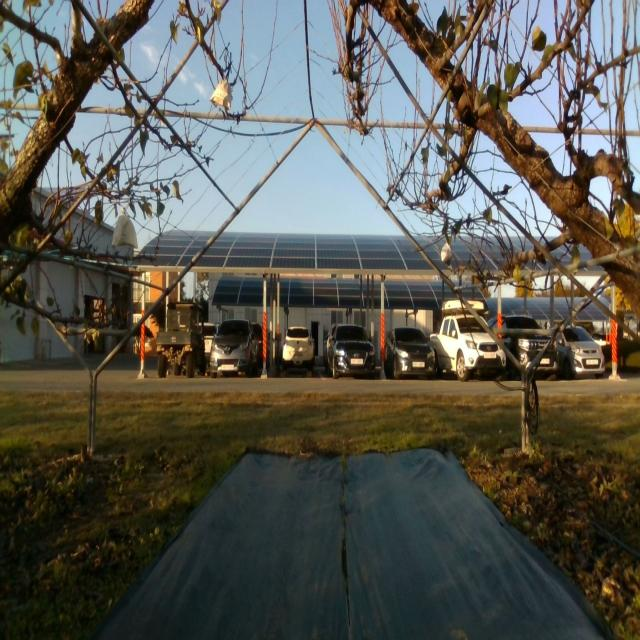pearbags: (112, 216, 138, 248), (210, 78, 231, 110), (441, 242, 451, 263)
